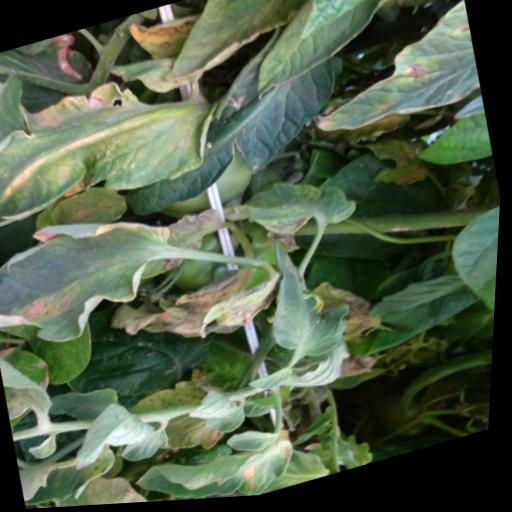Late Blight: (0, 56, 226, 234), (0, 190, 212, 358), (286, 0, 490, 164), (123, 416, 318, 505), (256, 226, 371, 374), (229, 161, 370, 260)
